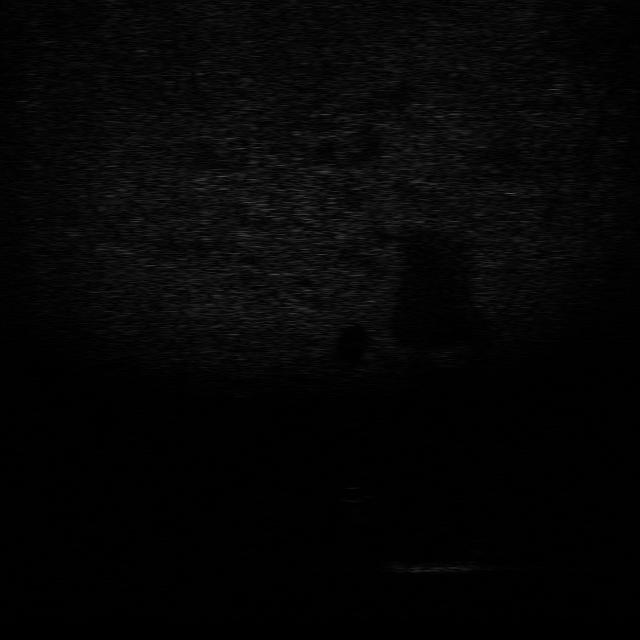ball: (386, 553, 476, 577)
metal bucket: (420, 518, 488, 552)
square cage: (336, 480, 374, 505)
